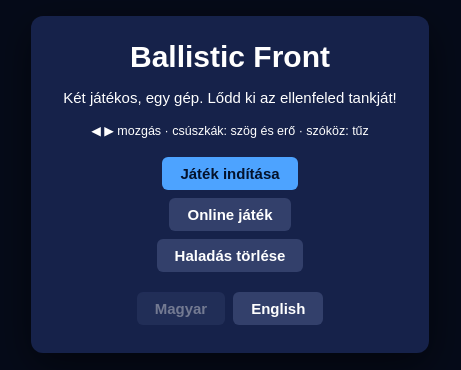
Test: MainMenu › a nyelvváltó angolra állítja a menüt, majd vissza magyarra
Click the button "English": x=278, y=308 [233,292,323,324]
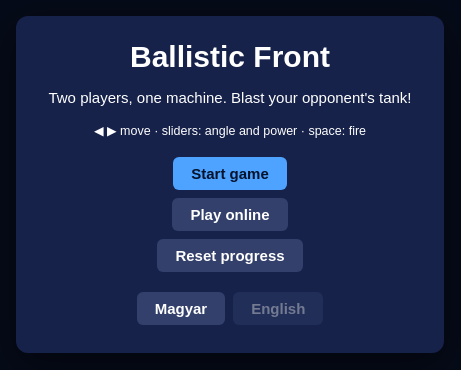
Now the button "Start game" is shown, box [173,156,287,190]
Now the button "Play online" is shown, box [172,198,288,230]
Click the button "Magyar": x=181, y=308 [137,292,225,324]
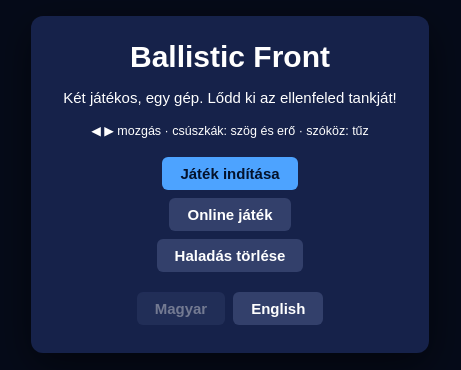
Now the button "Játék indítása" is shown, box [162,156,298,190]
